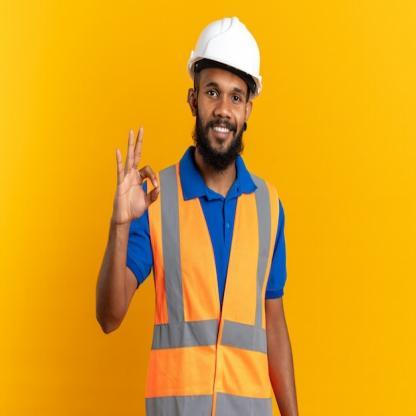ok: (113, 124, 161, 229)
